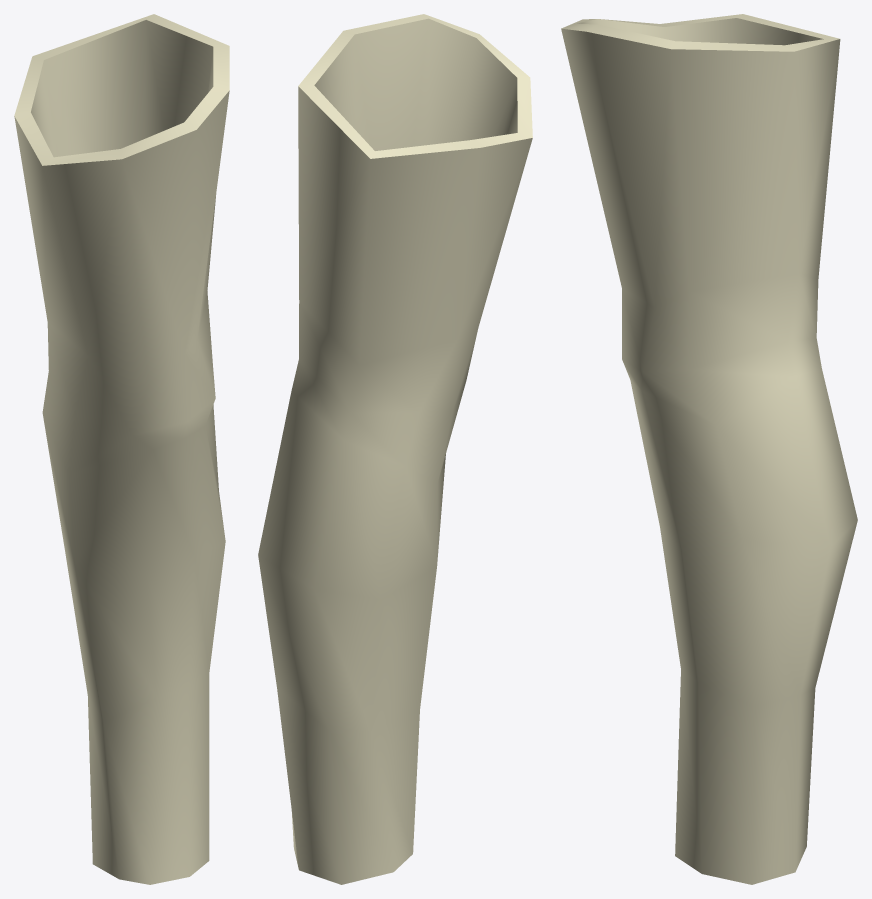
Rendered from Leg_2_L.fbx.
3 views of the same model, side by side, from view 1: azimuth 30°, elevation 25°; view 2: azimuth 150°, elevation 25°; view 3: azimuth 270°, elevation 25° (orthographic). The views are drawn at different scales.
Parts seen in each view (by area): view 1: Leg_2_L; view 2: Leg_2_L; view 3: Leg_2_L.
Part boxes in pixels (bbox=[...]): Leg_2_L: bbox=[14, 14, 229, 884]; Leg_2_L: bbox=[258, 14, 532, 884]; Leg_2_L: bbox=[561, 14, 857, 884].
Bounding box in the file's own units: 20.91 × 76.03 × 24.59.
